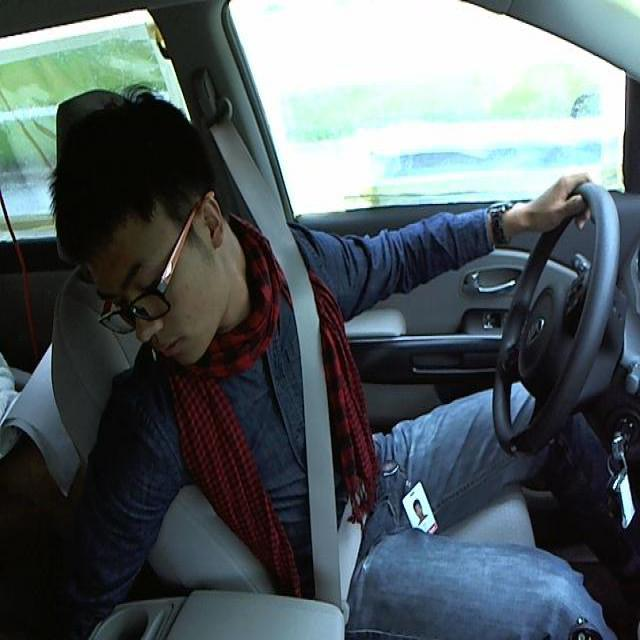seatbelt: (265, 255, 381, 604)
